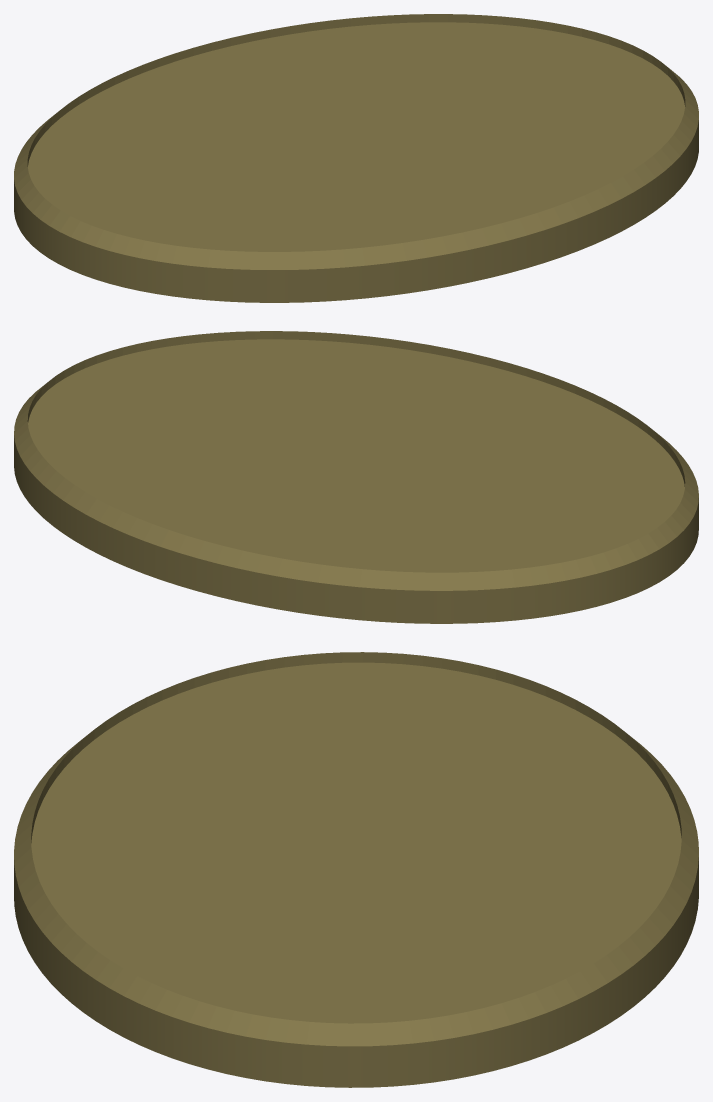
File: ReferenceTable.fbx
3 renders of one model, top to bottom at view 1: azimuth 30°, elevation 25°; view 2: azimuth 150°, elevation 25°; view 3: azimuth 270°, elevation 25°, orthographic. The views are drawn at different scales.
Parts seen in each view (by area): view 1: TableTop; view 2: TableTop; view 3: TableTop.
Boxes of the visible parts, x1,y1,x2,y2 form: TableTop: (14,14,698,302); TableTop: (14,331,698,623); TableTop: (14,652,698,1087).
Bounding box in the file's own units: 159 × 10.95 × 119.
